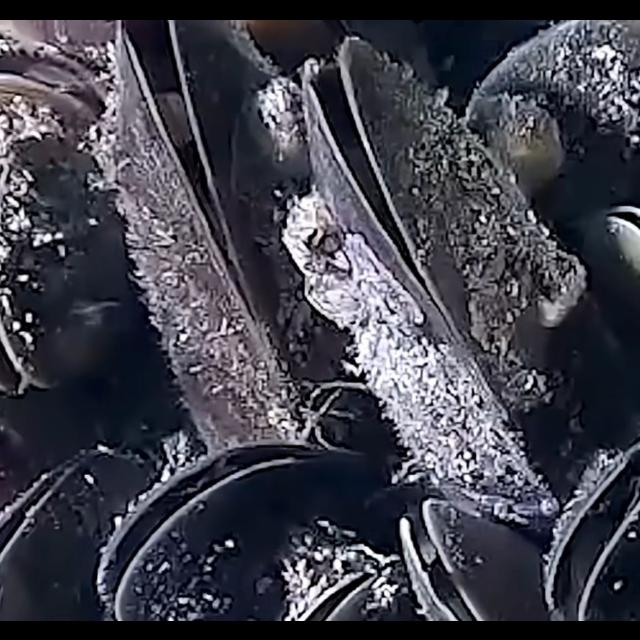Oyster-Closed: (466, 19, 640, 290)
Oyster-Open: (288, 33, 612, 523), (100, 19, 364, 455), (99, 438, 374, 620), (0, 137, 118, 395), (0, 444, 160, 620), (396, 496, 552, 620), (548, 446, 640, 620), (0, 36, 114, 164), (298, 562, 386, 620), (604, 200, 640, 264)
